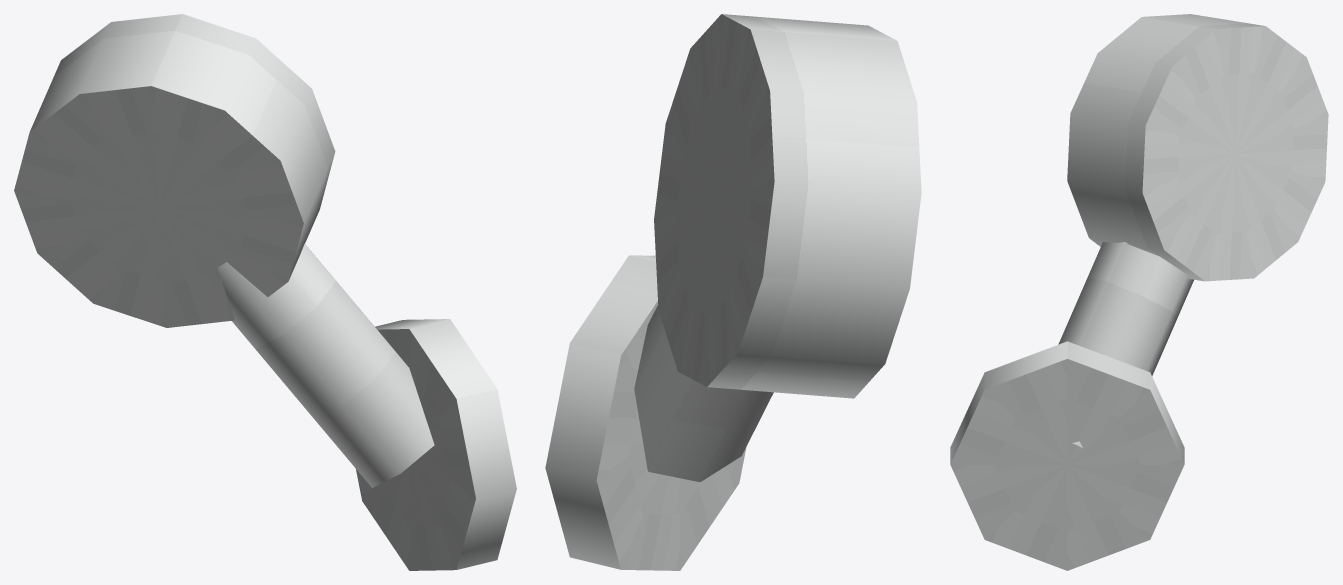
Rendered from nycsignalarm_stub_145.obj.
3 renders of one model, left to right at view 1: azimuth 30°, elevation 25°; view 2: azimuth 150°, elevation 25°; view 3: azimuth 270°, elevation 25°, orthographic. The views are drawn at different scales.
Visible parts, largest first — view 1: nycsignalarm_stub_145; view 2: nycsignalarm_stub_145; view 3: nycsignalarm_stub_145.
Part boxes in pixels (box(x1,y1,x2,y2)): nycsignalarm_stub_145: box(14, 14, 516, 570); nycsignalarm_stub_145: box(545, 14, 921, 570); nycsignalarm_stub_145: box(950, 14, 1328, 570).
Size of the model in its own units: 0.5031 by 0.7652 by 0.5654.
